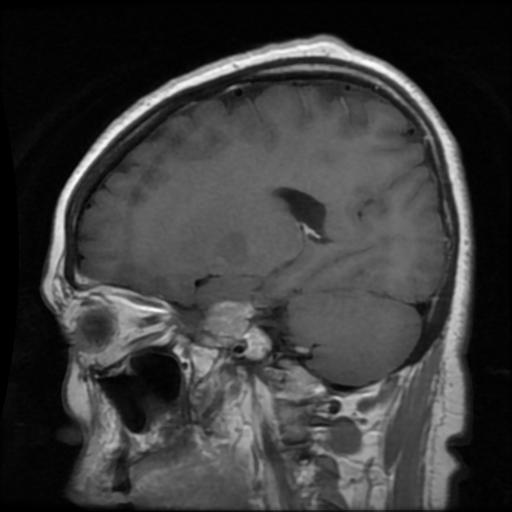Pituirity_tumour: (201, 299, 270, 357)
